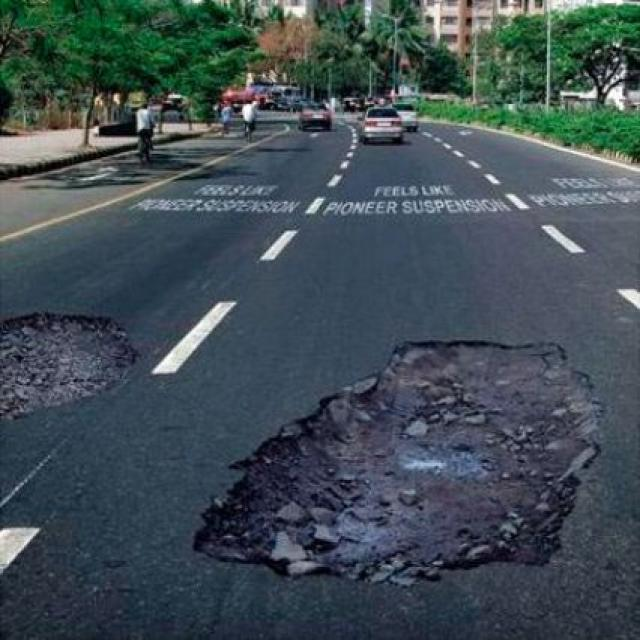pothole: (184, 331, 606, 586), (0, 308, 143, 420)
